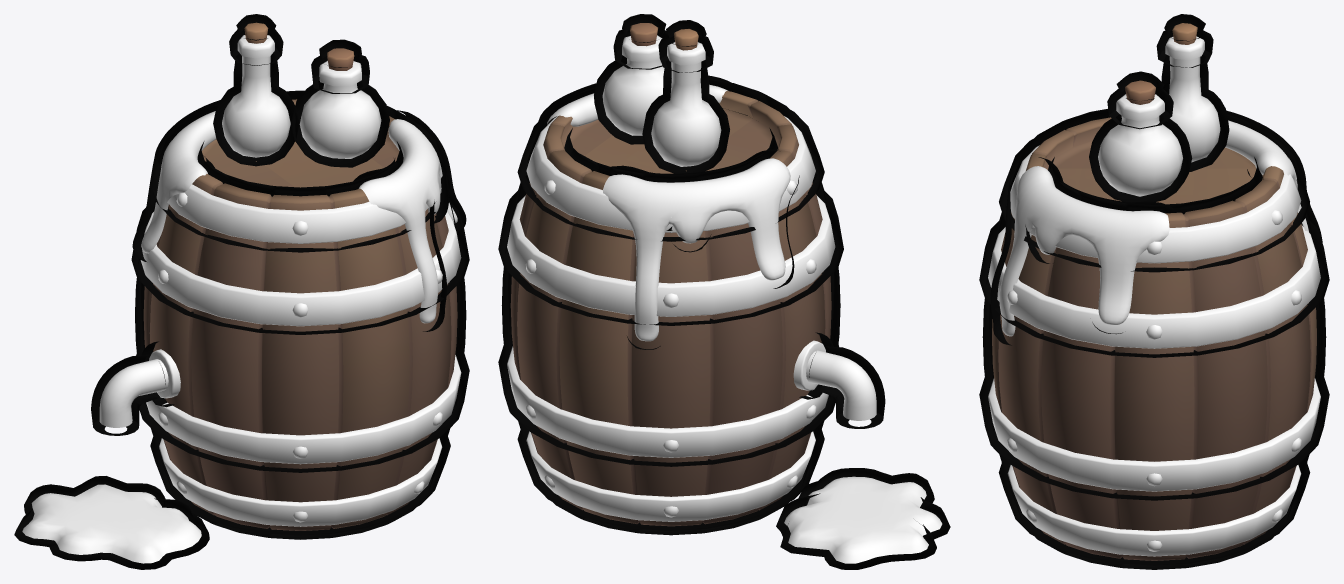
File: gizmo_poisonBarrel3.fbx
3 views of the same model, side by side, from view 1: azimuth 30°, elevation 25°; view 2: azimuth 150°, elevation 25°; view 3: azimuth 270°, elevation 25° (orthographic). The views are drawn at different scales.
Visible parts, largest first — view 1: psnBarrel_Mesh.002, psnBarrel_backFace.002; view 2: psnBarrel_Mesh.002, psnBarrel_backFace.002; view 3: psnBarrel_Mesh.002, psnBarrel_backFace.002.
Boxes of the visible parts, <box> form: psnBarrel_Mesh.002: <box>22,22,461,563</box>; psnBarrel_backFace.002: <box>14,14,469,569</box>; psnBarrel_Mesh.002: <box>507,23,942,563</box>; psnBarrel_backFace.002: <box>498,14,950,569</box>; psnBarrel_Mesh.002: <box>988,23,1320,560</box>; psnBarrel_backFace.002: <box>979,14,1329,569</box>.
Size of the model in its own units: 387 by 415 by 273.
